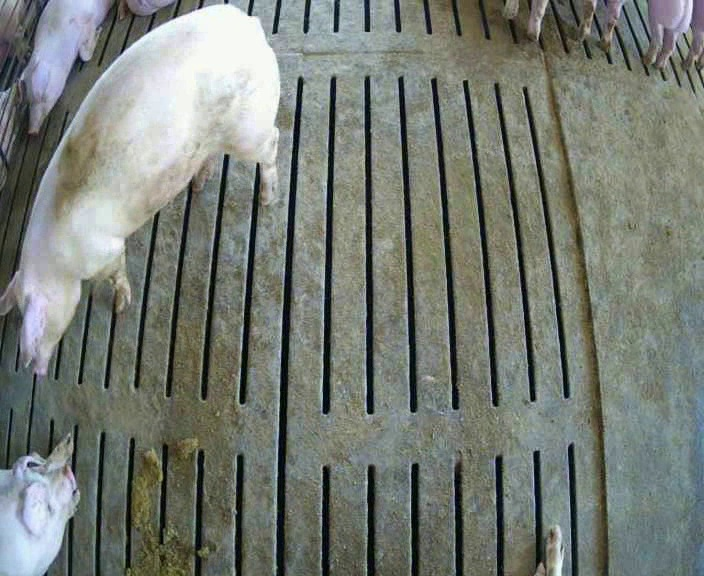pig: (18, 2, 111, 132), (0, 434, 79, 574), (643, 1, 692, 68)
